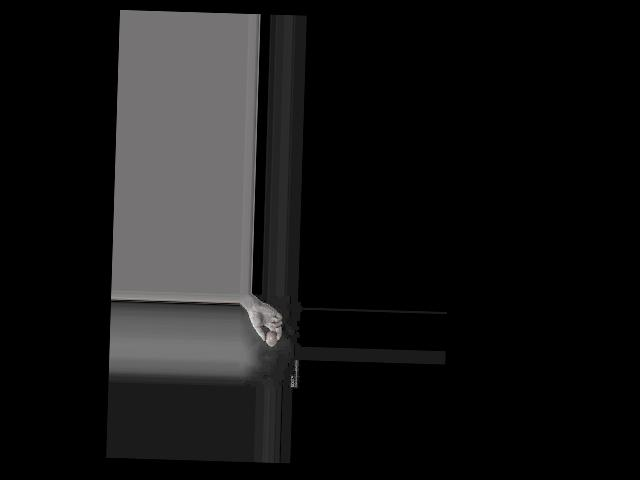egg: (265, 330, 277, 346)
